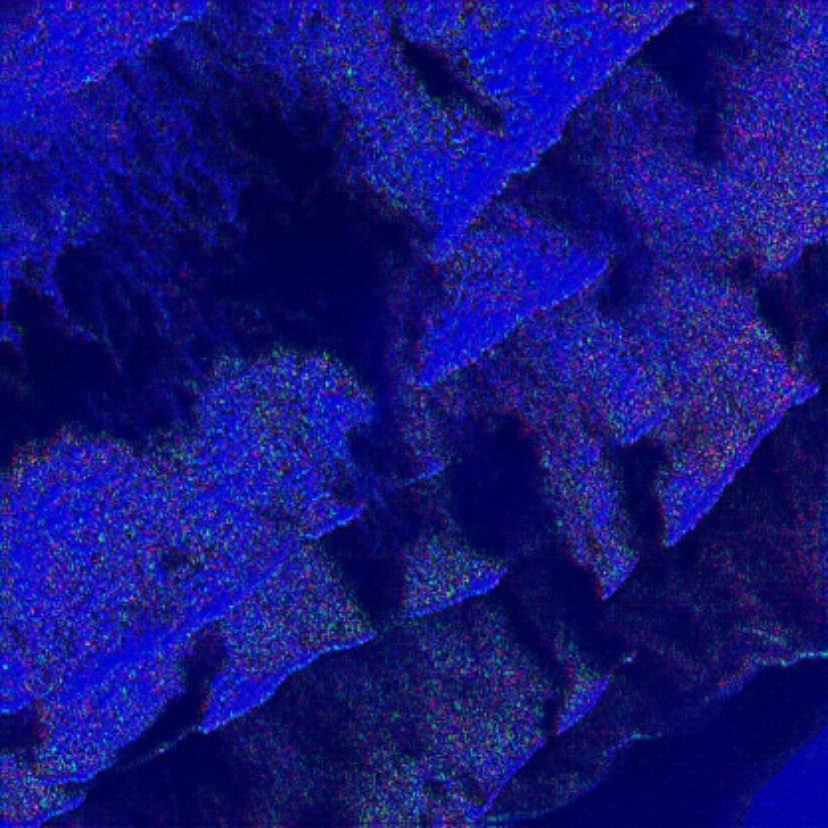rip_current: (233, 191, 653, 665)
